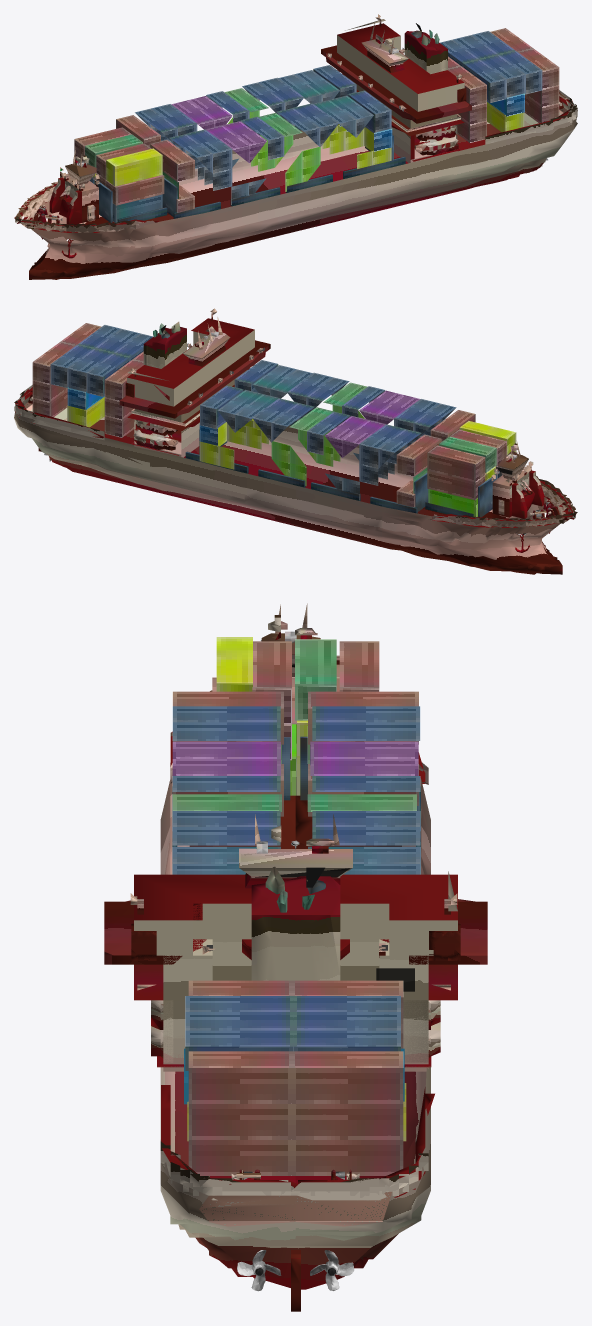
The model's file is cargo_ship_02.glb.
3 views of the same model, one above another, from view 1: azimuth 30°, elevation 25°; view 2: azimuth 150°, elevation 25°; view 3: azimuth 270°, elevation 25° (orthographic). The views are drawn at different scales.
Parts seen in each view (by area): view 1: Object_19, Object_13, Object_32, Object_10, Object_12, Object_9, Object_16, Object_22, Object_11, Object_33, Object_8, Object_35 (+4 smaller); view 2: Object_19, Object_32, Object_13, Object_10, Object_9, Object_12, Object_16, Object_8, Object_11, Object_22, Object_35, Object_36 (+3 smaller); view 3: Object_32, Object_10, Object_13, Object_19, Object_16, Object_11, Object_36, Object_12, Object_9, Object_35, Object_28, Object_5 (+3 smaller).
Boxes of the visible parts, x1=… form: Object_19: x1=27, y1=108, x2=577, y2=279; Object_13: x1=135, y1=31, x2=542, y2=190; Object_32: x1=14, y1=19, x2=577, y2=231; Object_10: x1=74, y1=28, x2=559, y2=212; Object_12: x1=112, y1=70, x2=373, y2=222; Object_9: x1=93, y1=102, x2=524, y2=186; Object_16: x1=171, y1=96, x2=266, y2=163; Object_22: x1=117, y1=125, x2=405, y2=221; Object_11: x1=85, y1=88, x2=302, y2=198; Object_33: x1=15, y1=104, x2=576, y2=232; Object_8: x1=228, y1=110, x2=320, y2=191; Object_35: x1=14, y1=92, x2=573, y2=232; Object_19: x1=14, y1=402, x2=562, y2=574; Object_32: x1=14, y1=318, x2=574, y2=527; Object_13: x1=50, y1=325, x2=456, y2=485; Object_10: x1=32, y1=323, x2=517, y2=507; Object_9: x1=67, y1=397, x2=516, y2=480; Object_12: x1=217, y1=365, x2=421, y2=499; Object_16: x1=325, y1=390, x2=420, y2=457; Object_8: x1=271, y1=405, x2=477, y2=516; Object_11: x1=289, y1=382, x2=496, y2=493; Object_22: x1=185, y1=420, x2=473, y2=516; Object_35: x1=15, y1=387, x2=576, y2=527; Object_36: x1=125, y1=333, x2=504, y2=514; Object_32: x1=104, y1=633, x2=487, y2=1311; Object_10: x1=172, y1=641, x2=418, y2=1175; Object_13: x1=172, y1=706, x2=420, y2=1070; Object_19: x1=151, y1=744, x2=440, y2=1289; Object_16: x1=172, y1=741, x2=418, y2=775; Object_11: x1=172, y1=639, x2=416, y2=811; Object_36: x1=131, y1=848, x2=460, y2=960; Object_12: x1=172, y1=846, x2=420, y2=874; Object_9: x1=187, y1=637, x2=406, y2=1141; Object_35: x1=161, y1=731, x2=434, y2=1197; Object_28: x1=130, y1=603, x2=457, y2=1067; Object_5: x1=237, y1=1250, x2=354, y2=1291.
Size of what is drawn, in the model's own units: 9.14 by 2.73 by 2.8.
Materials: 25 (24 with a texture image).
